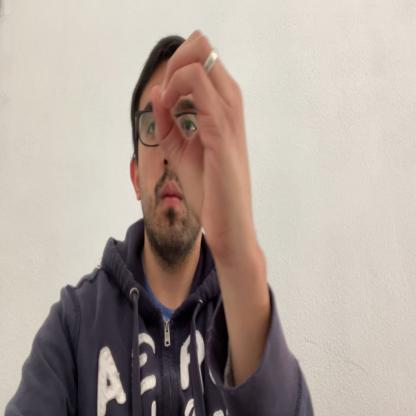O: (153, 31, 251, 257)
